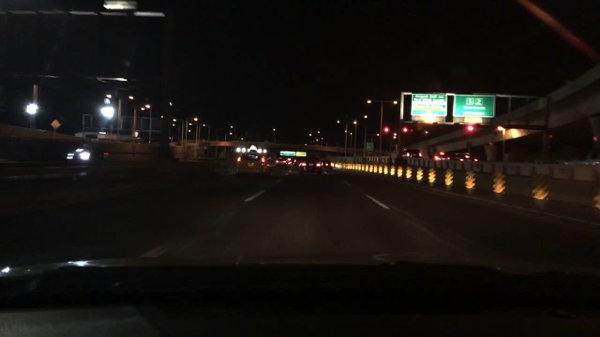bus: (75, 132, 141, 140)
car: (235, 150, 268, 178), (67, 149, 110, 167), (298, 157, 322, 176), (455, 152, 478, 163), (401, 149, 421, 157), (432, 151, 448, 161), (323, 161, 334, 172), (276, 158, 289, 166), (291, 159, 299, 169), (403, 126, 407, 133)
traffic light: (466, 126, 472, 133), (384, 126, 389, 134)
traffic sign: (452, 93, 495, 120), (411, 93, 448, 118), (51, 121, 61, 129), (281, 151, 295, 156), (367, 142, 374, 151)
